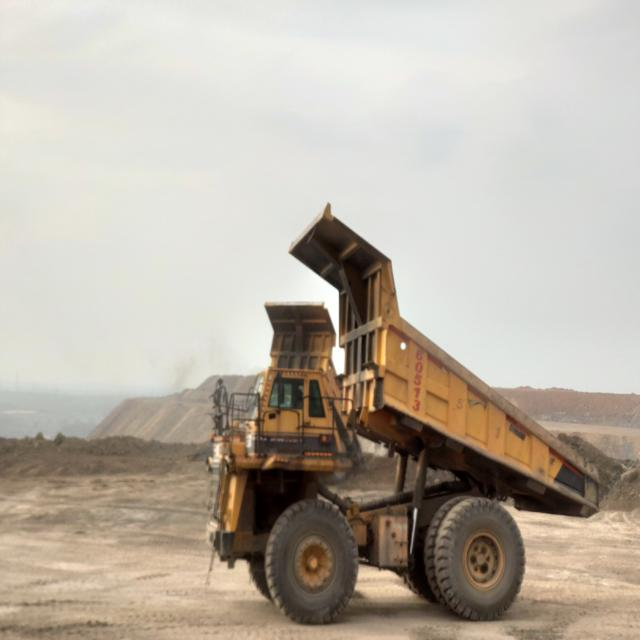dump_truck: (208, 205, 599, 623)
